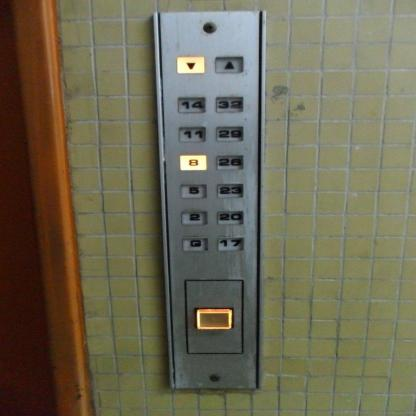11: (178, 125, 206, 142)
14: (176, 95, 206, 113)
17: (216, 236, 244, 250)
2: (180, 209, 208, 226)
20: (215, 209, 244, 225)
23: (216, 182, 244, 198)
26: (215, 154, 244, 170)
29: (214, 125, 244, 142)
32: (214, 95, 244, 113)
5: (179, 182, 208, 198)
8: (178, 154, 207, 170)
G: (181, 236, 210, 252)
down: (176, 55, 204, 73)
empty: (193, 306, 234, 330)
up: (214, 55, 244, 73)
